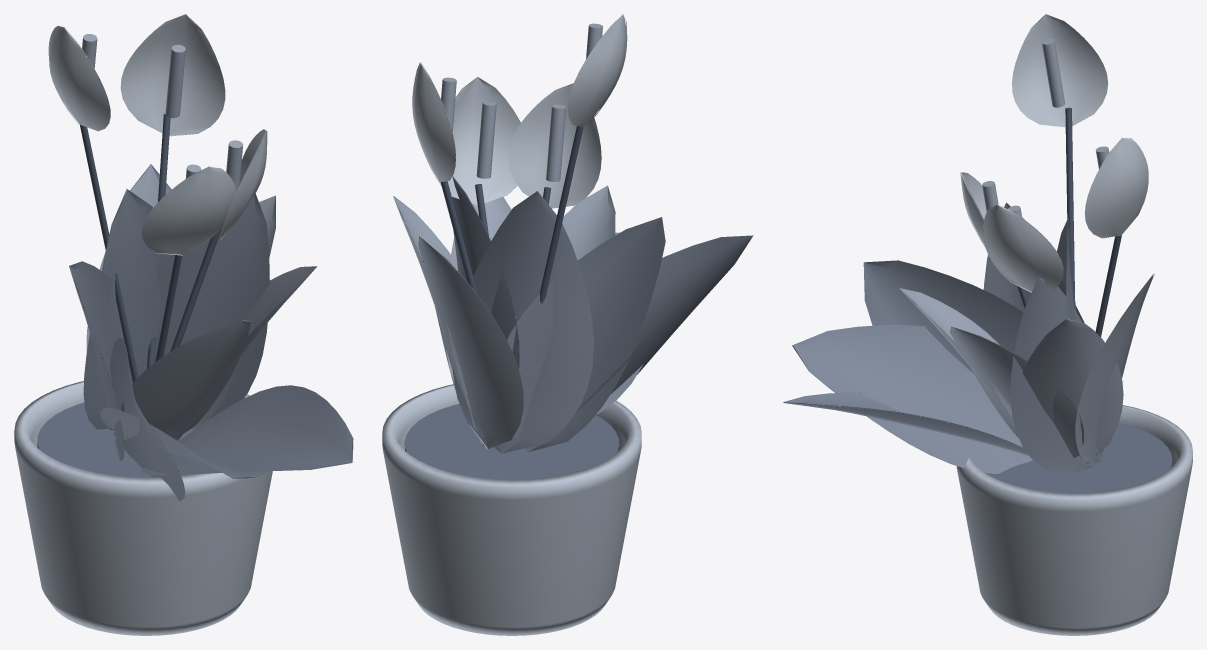
Rendered from flower-anthurium.glb.
3 renders of one model, left to right at view 1: azimuth 30°, elevation 25°; view 2: azimuth 150°, elevation 25°; view 3: azimuth 270°, elevation 25°, orthographic. The views are drawn at different scales.
Visible parts, largest first — view 1: soft, body, accent, light, glass, dark, flowercenter; view 2: body, soft, accent, light, glass, flowercenter, dark; view 3: soft, body, accent, light, glass, dark, flowercenter.
Part boxes in pixels (x1=…): soft: x1=69, y1=189, x2=353, y2=501; body: x1=14, y1=381, x2=272, y2=635; accent: x1=48, y1=14, x2=267, y2=255; light: x1=86, y1=164, x2=316, y2=441; glass: x1=37, y1=402, x2=194, y2=477; dark: x1=80, y1=113, x2=221, y2=383; flowercenter: x1=82, y1=34, x2=242, y2=191; body: x1=382, y1=384, x2=641, y2=635; soft: x1=452, y1=176, x2=753, y2=453; accent: x1=412, y1=14, x2=627, y2=208; light: x1=393, y1=185, x2=615, y2=449; glass: x1=404, y1=404, x2=619, y2=479; flowercenter: x1=441, y1=23, x2=602, y2=181; dark: x1=440, y1=126, x2=583, y2=303; soft: x1=783, y1=202, x2=1102, y2=475; body: x1=956, y1=405, x2=1192, y2=635; accent: x1=960, y1=14, x2=1148, y2=292; light: x1=899, y1=274, x2=1154, y2=463; glass: x1=985, y1=423, x2=1172, y2=493; dark: x1=1017, y1=107, x2=1121, y2=336; flowercenter: x1=982, y1=39, x2=1109, y2=217.
Bounding box in the file's own units: 0.2922 × 0.66 × 0.4525.
